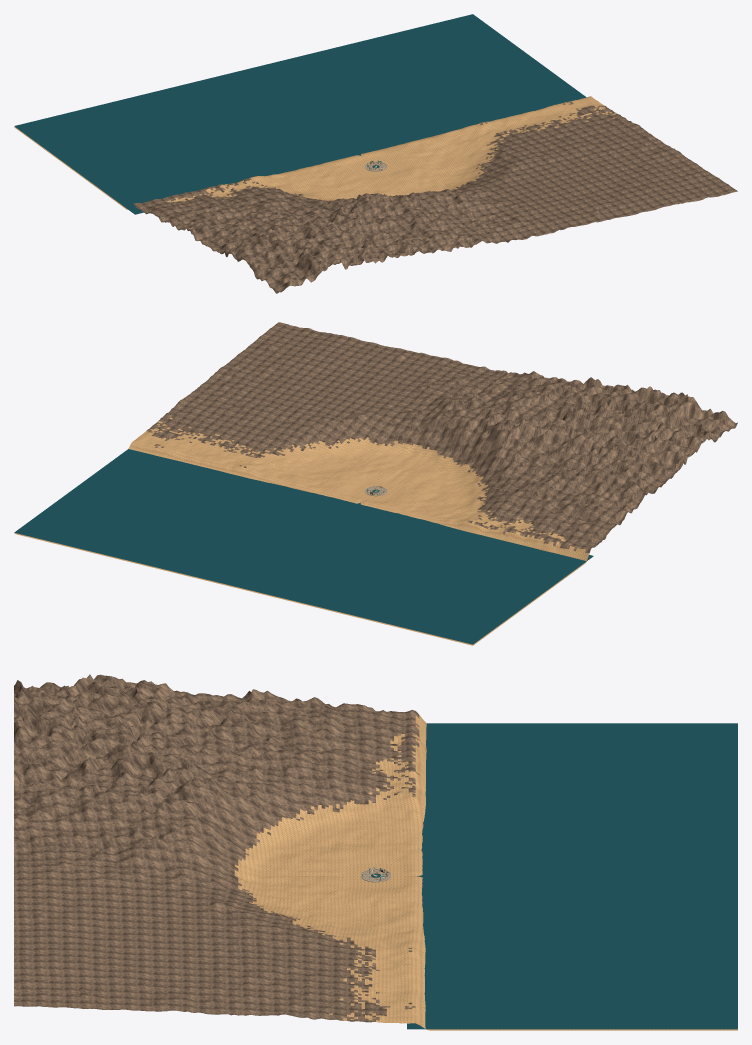
File: plaza.glb
3 renders of one model, top to bottom at view 1: azimuth 30°, elevation 25°; view 2: azimuth 150°, elevation 25°; view 3: azimuth 270°, elevation 25°, orthographic. The views are drawn at different scales.
Visible parts, largest first — view 1: Terrain, Water_Sea; view 2: Terrain, Water_Sea; view 3: Terrain, Water_Sea.
Boxes of the visible parts, bbox=[...] form: Terrain: bbox=[14, 96, 737, 293]; Water_Sea: bbox=[14, 14, 586, 214]; Terrain: bbox=[14, 322, 737, 645]; Water_Sea: bbox=[14, 449, 593, 644]; Terrain: bbox=[14, 674, 737, 1030]; Water_Sea: bbox=[407, 723, 737, 1029].
Bounding box in the file's own units: 1400 × 136 × 1400.
31 materials, 10 textured.
